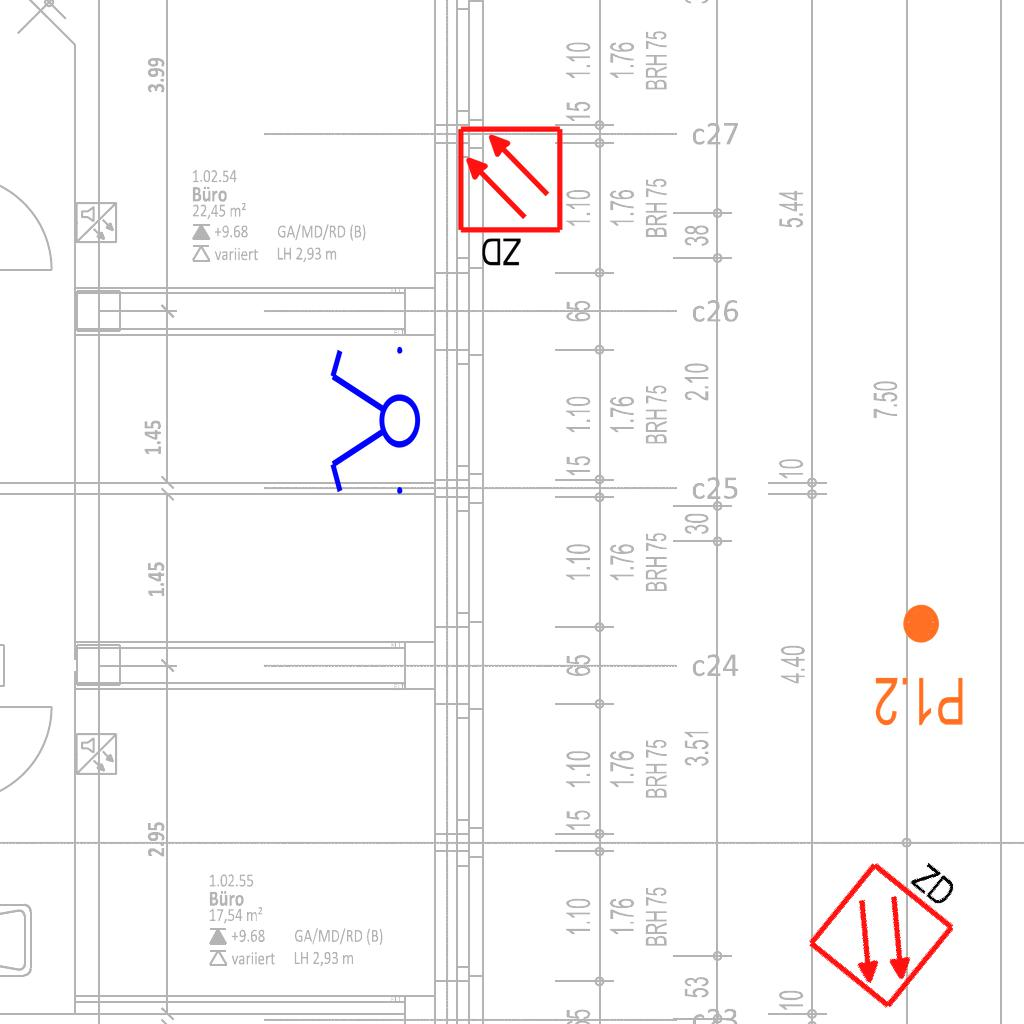Downlight_LED_Einbauleuchten_Flur: (873, 601, 966, 729)
Serienschalter: (326, 338, 422, 506)
ZD_Melder_in_Zwischendecke_mit_Revisionsoeffnung_mind_40_x_40_cm: (800, 825, 984, 1014), (455, 124, 569, 273)
